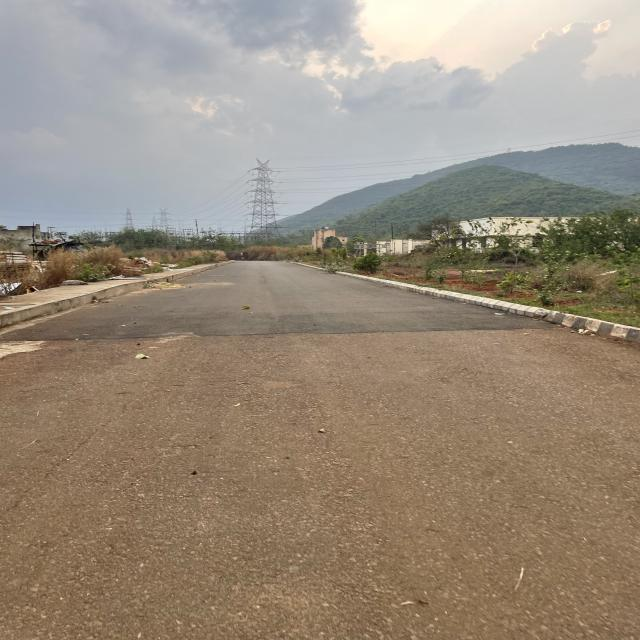D11: (59, 320, 526, 338)
